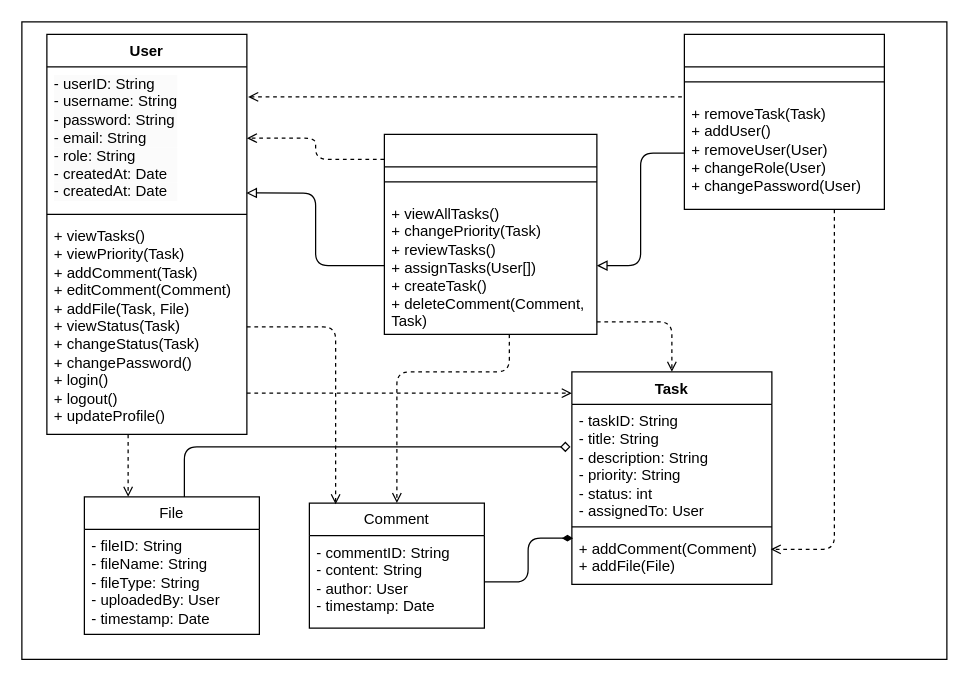
Some shapes in this 969 by 681 pixel diagram are drawn without their labels. Each missing label, with the box of its shape:
Admin: (683, 33, 884, 209)
Supervisor: (383, 133, 597, 334)
